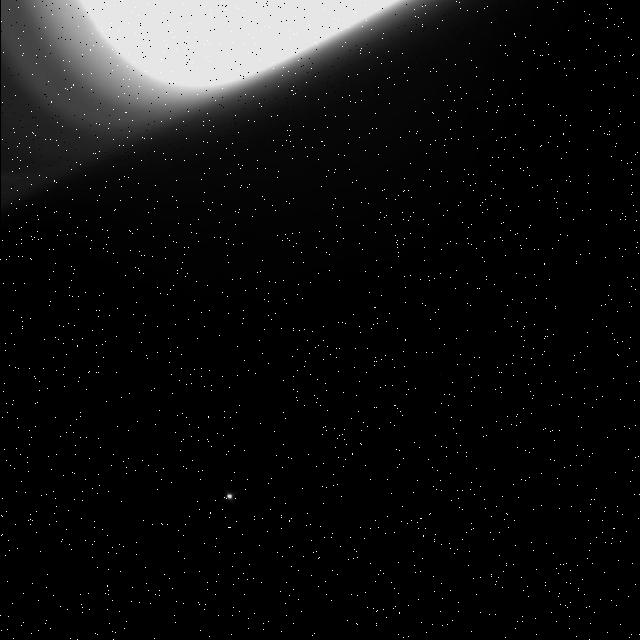Saturn: (0, 0, 571, 262)
